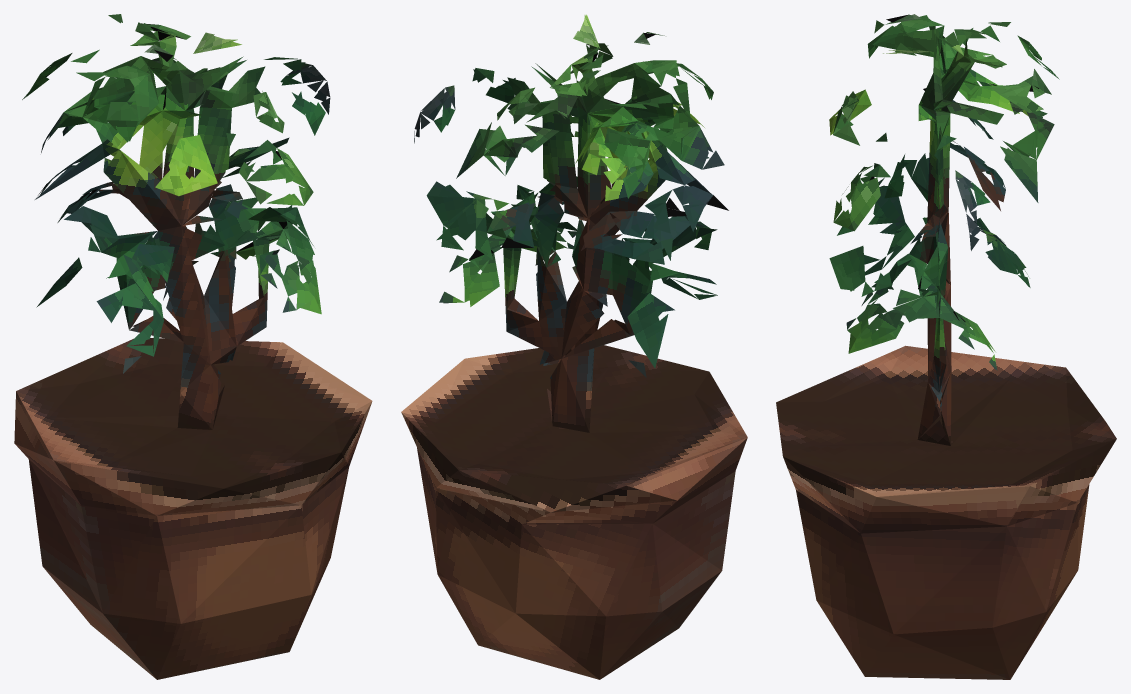
The model's file is plant_textured.gltf.
3 renders of one model, left to right at view 1: azimuth 30°, elevation 25°; view 2: azimuth 150°, elevation 25°; view 3: azimuth 270°, elevation 25°, orthographic. The views are drawn at different scales.
Parts seen in each view (by area): view 1: Mesh_0.001; view 2: Mesh_0.001; view 3: Mesh_0.001.
Boxes of the visible parts, <box> form: Mesh_0.001: <box>14,14,372,679</box>; Mesh_0.001: <box>401,14,747,679</box>; Mesh_0.001: <box>776,14,1116,679</box>.
Bounding box in the file's own units: 1.03 × 1.95 × 0.9934.
1 material, 1 textured.
